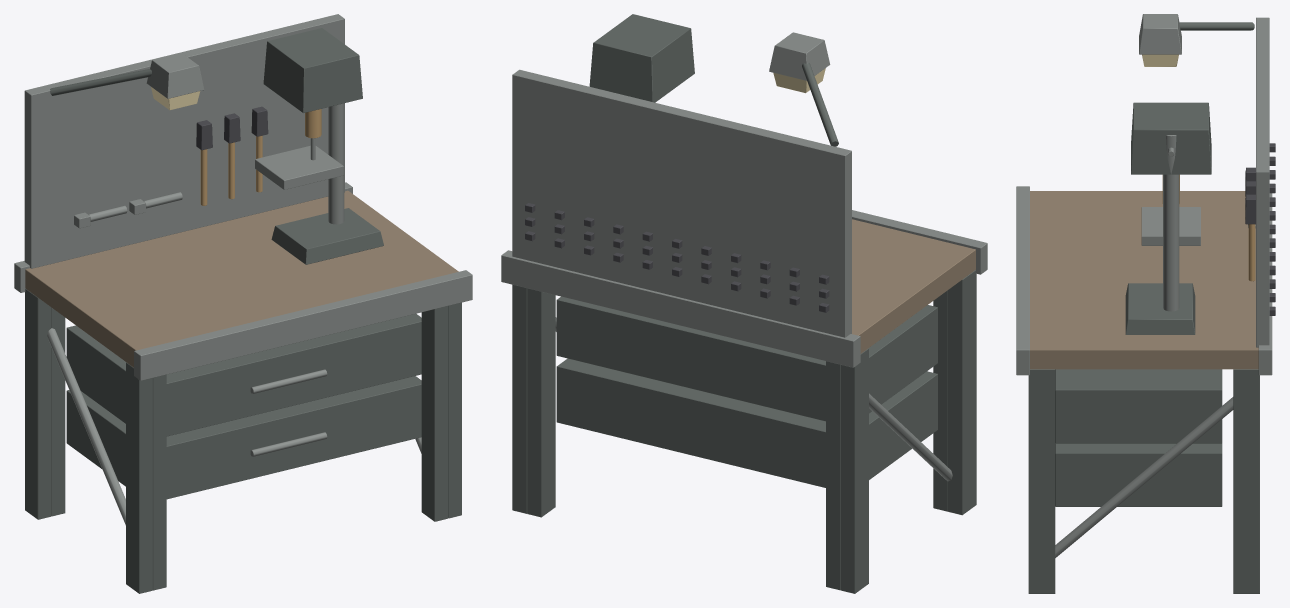
Rendered from DD_workbench2_L3.fbx.
3 views of the same model, side by side, from view 1: azimuth 30°, elevation 25°; view 2: azimuth 150°, elevation 25°; view 3: azimuth 270°, elevation 25° (orthographic). The views are drawn at different scales.
Parts seen in each view (by area): view 1: DD_workbench2_L3; view 2: DD_workbench2_L3; view 3: DD_workbench2_L3.
Boxes of the visible parts, bbox=[...] form: DD_workbench2_L3: bbox=[14, 14, 472, 593]; DD_workbench2_L3: bbox=[501, 14, 987, 593]; DD_workbench2_L3: bbox=[1016, 14, 1275, 593].
Bounding box in the file's own units: 1.44 × 1.9 × 0.9625.
